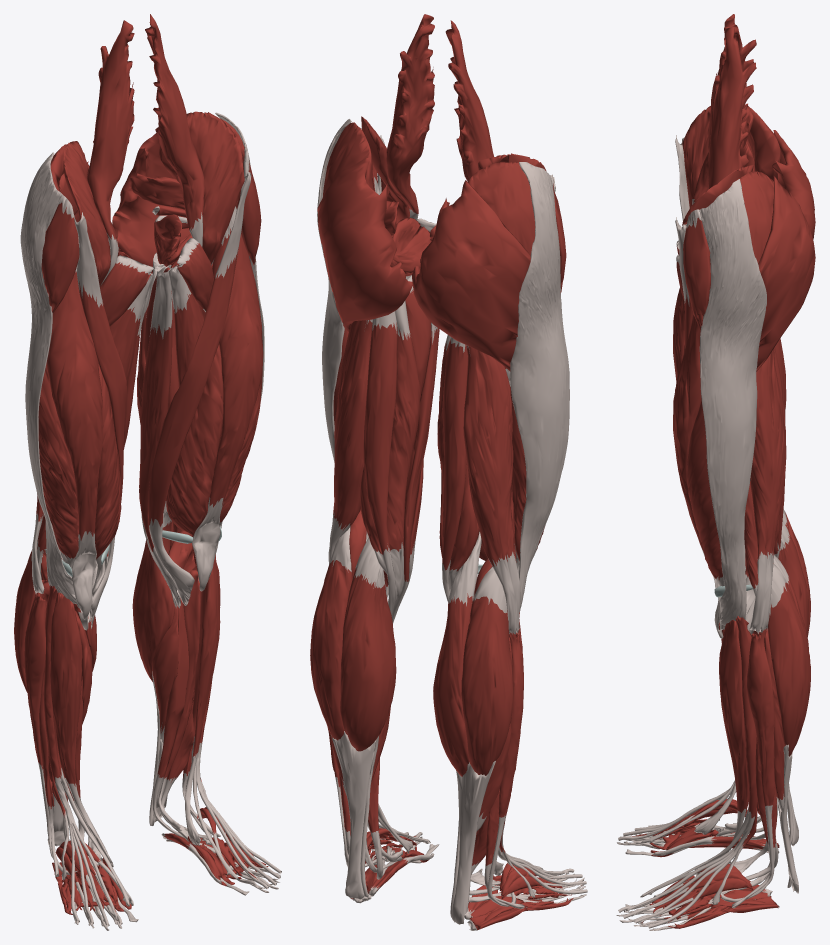
The model's file is muscles-lower-limb.glb.
3 renders of one model, left to right at view 1: azimuth 30°, elevation 25°; view 2: azimuth 150°, elevation 25°; view 3: azimuth 270°, elevation 25°, orthographic. The views are drawn at different scales.
Visible parts, largest first — view 1: muscle-rectus-femoris-muscle-r, muscle-rectus-femoris-muscle-l, muscle-sartorius-muscle-l, muscle-iliotibial-tract-r, muscle-psoas-major-r, muscle-vastus-medialis-muscle-l, muscle-gracilis-muscle-l, muscle-tibialis-anterior-muscle-r, muscle-iliacus-muscle-l, muscle-psoas-major-l, muscle-sartorius-muscle-r, muscle-vastus-lateralis-muscle-r (+35 smaller); view 2: muscle-iliotibial-tract-r, muscle-gluteus-maximus-muscle-r, muscle-gluteus-maximus-muscle-l, muscle-long-head-of-biceps-femoris-r, muscle-medial-head-of-gastrocnemius-l, muscle-lateral-head-of-gastrocnemius-r, muscle-semitendinosus-muscle-l, muscle-semimembranosus-muscle-l, muscle-long-head-of-biceps-femoris-l, muscle-psoas-major-l, muscle-medial-head-of-gastrocnemius-r, muscle-lateral-head-of-gastrocnemius-l (+23 smaller); view 3: muscle-iliotibial-tract-l, muscle-long-head-of-biceps-femoris-l, muscle-gluteus-maximus-muscle-l, muscle-lateral-head-of-gastrocnemius-l, muscle-psoas-major-l, muscle-fibularis-longus-muscle-l, muscle-tibialis-anterior-muscle-l, muscle-rectus-femoris-muscle-l, muscle-vastus-lateralis-muscle-l, muscle-tensor-fasciae-latae-l, muscle-gluteus-medius-muscle-l, muscle-extensor-digitorum-longus-l (+26 smaller).
Boxes of the visible parts, box(x1,y1,x2,y2) form: muscle-rectus-femoris-muscle-r: box(46, 235, 102, 619); muscle-rectus-femoris-muscle-l: box(192, 206, 263, 591); muscle-sartorius-muscle-l: box(148, 172, 251, 605); muscle-iliotibial-tract-r: box(20, 152, 77, 603); muscle-psoas-major-r: box(87, 20, 134, 284); muscle-vastus-medialis-muscle-l: box(166, 345, 223, 570); muscle-gracilis-muscle-l: box(139, 267, 180, 608); muscle-tibialis-anterior-muscle-r: box(50, 592, 113, 866); muscle-iliacus-muscle-l: box(186, 111, 244, 265); muscle-psoas-major-l: box(145, 14, 204, 247); muscle-sartorius-muscle-r: box(74, 212, 127, 628); muscle-vastus-lateralis-muscle-r: box(38, 363, 79, 608); muscle-iliotibial-tract-r: box(510, 162, 569, 611); muscle-gluteus-maximus-muscle-r: box(412, 180, 530, 371); muscle-gluteus-maximus-muscle-l: box(317, 156, 412, 331); muscle-long-head-of-biceps-femoris-r: box(463, 345, 520, 634); muscle-medial-head-of-gastrocnemius-l: box(340, 537, 396, 751); muscle-lateral-head-of-gastrocnemius-r: box(461, 566, 513, 775); muscle-semitendinosus-muscle-l: box(363, 311, 397, 614); muscle-semimembranosus-muscle-l: box(360, 300, 420, 599); muscle-long-head-of-biceps-femoris-l: box(328, 319, 372, 564); muscle-psoas-major-l: box(386, 14, 434, 220); muscle-medial-head-of-gastrocnemius-r: box(433, 532, 481, 776); muscle-lateral-head-of-gastrocnemius-l: box(310, 527, 352, 740); muscle-iliotibial-tract-l: box(699, 179, 766, 625); muscle-long-head-of-biceps-femoris-l: box(749, 349, 786, 633); muscle-gluteus-maximus-muscle-l: box(756, 175, 815, 371); muscle-lateral-head-of-gastrocnemius-l: box(768, 564, 810, 756); muscle-psoas-major-l: box(708, 26, 756, 188); muscle-fibularis-longus-muscle-l: box(720, 628, 774, 902); muscle-tibialis-anterior-muscle-l: box(694, 620, 749, 875); muscle-rectus-femoris-muscle-l: box(673, 315, 723, 638); muscle-vastus-lateralis-muscle-l: box(686, 401, 745, 630); muscle-tensor-fasciae-latae-l: box(683, 209, 710, 330); muscle-gluteus-medius-muscle-l: box(736, 171, 773, 263); muscle-extensor-digitorum-longus-l: box(733, 616, 757, 852).
Size of the model in its own units: 0.3223 by 1.15 by 0.2404.
